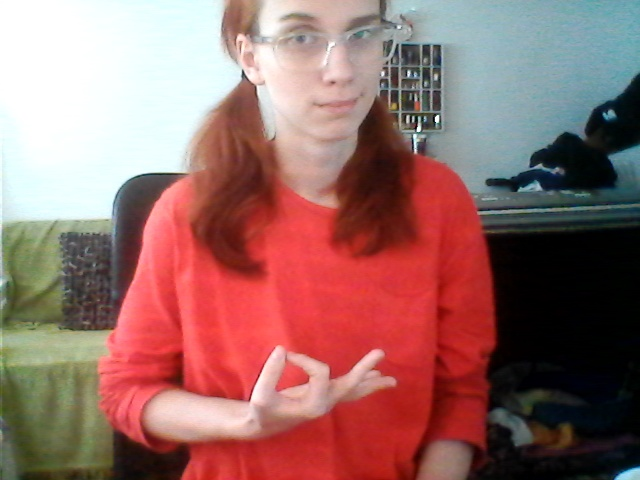co: (239, 336, 403, 432)
